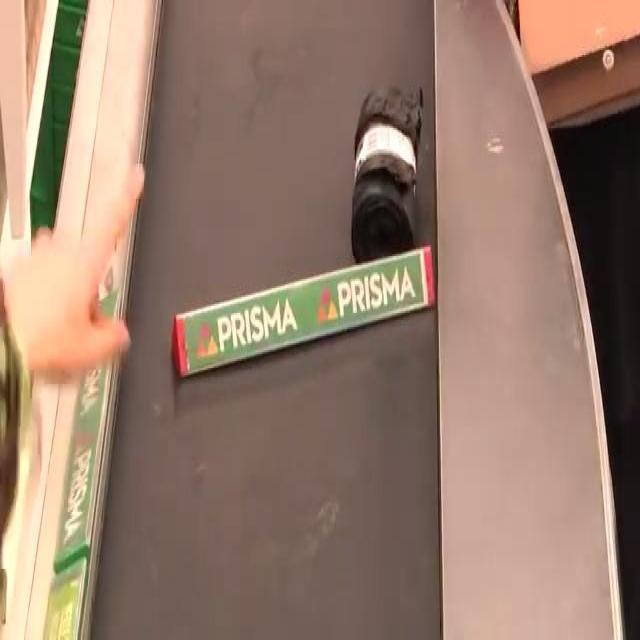utility-box: (352, 82, 424, 268)
